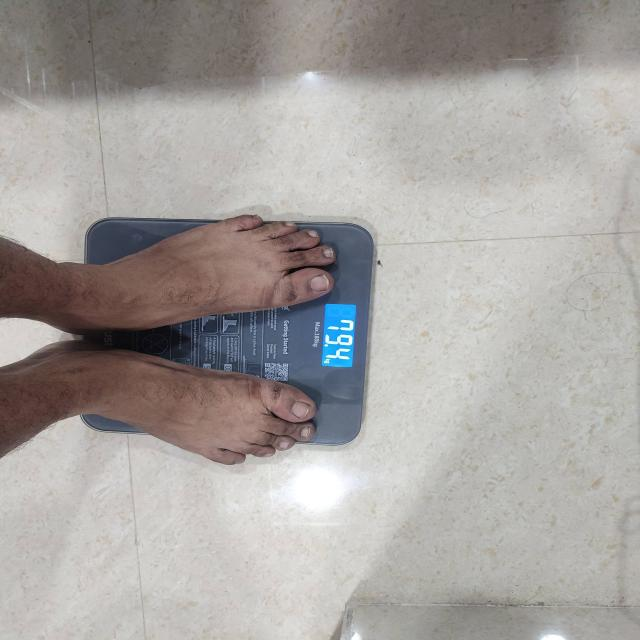ws: (139, 220, 379, 450)
